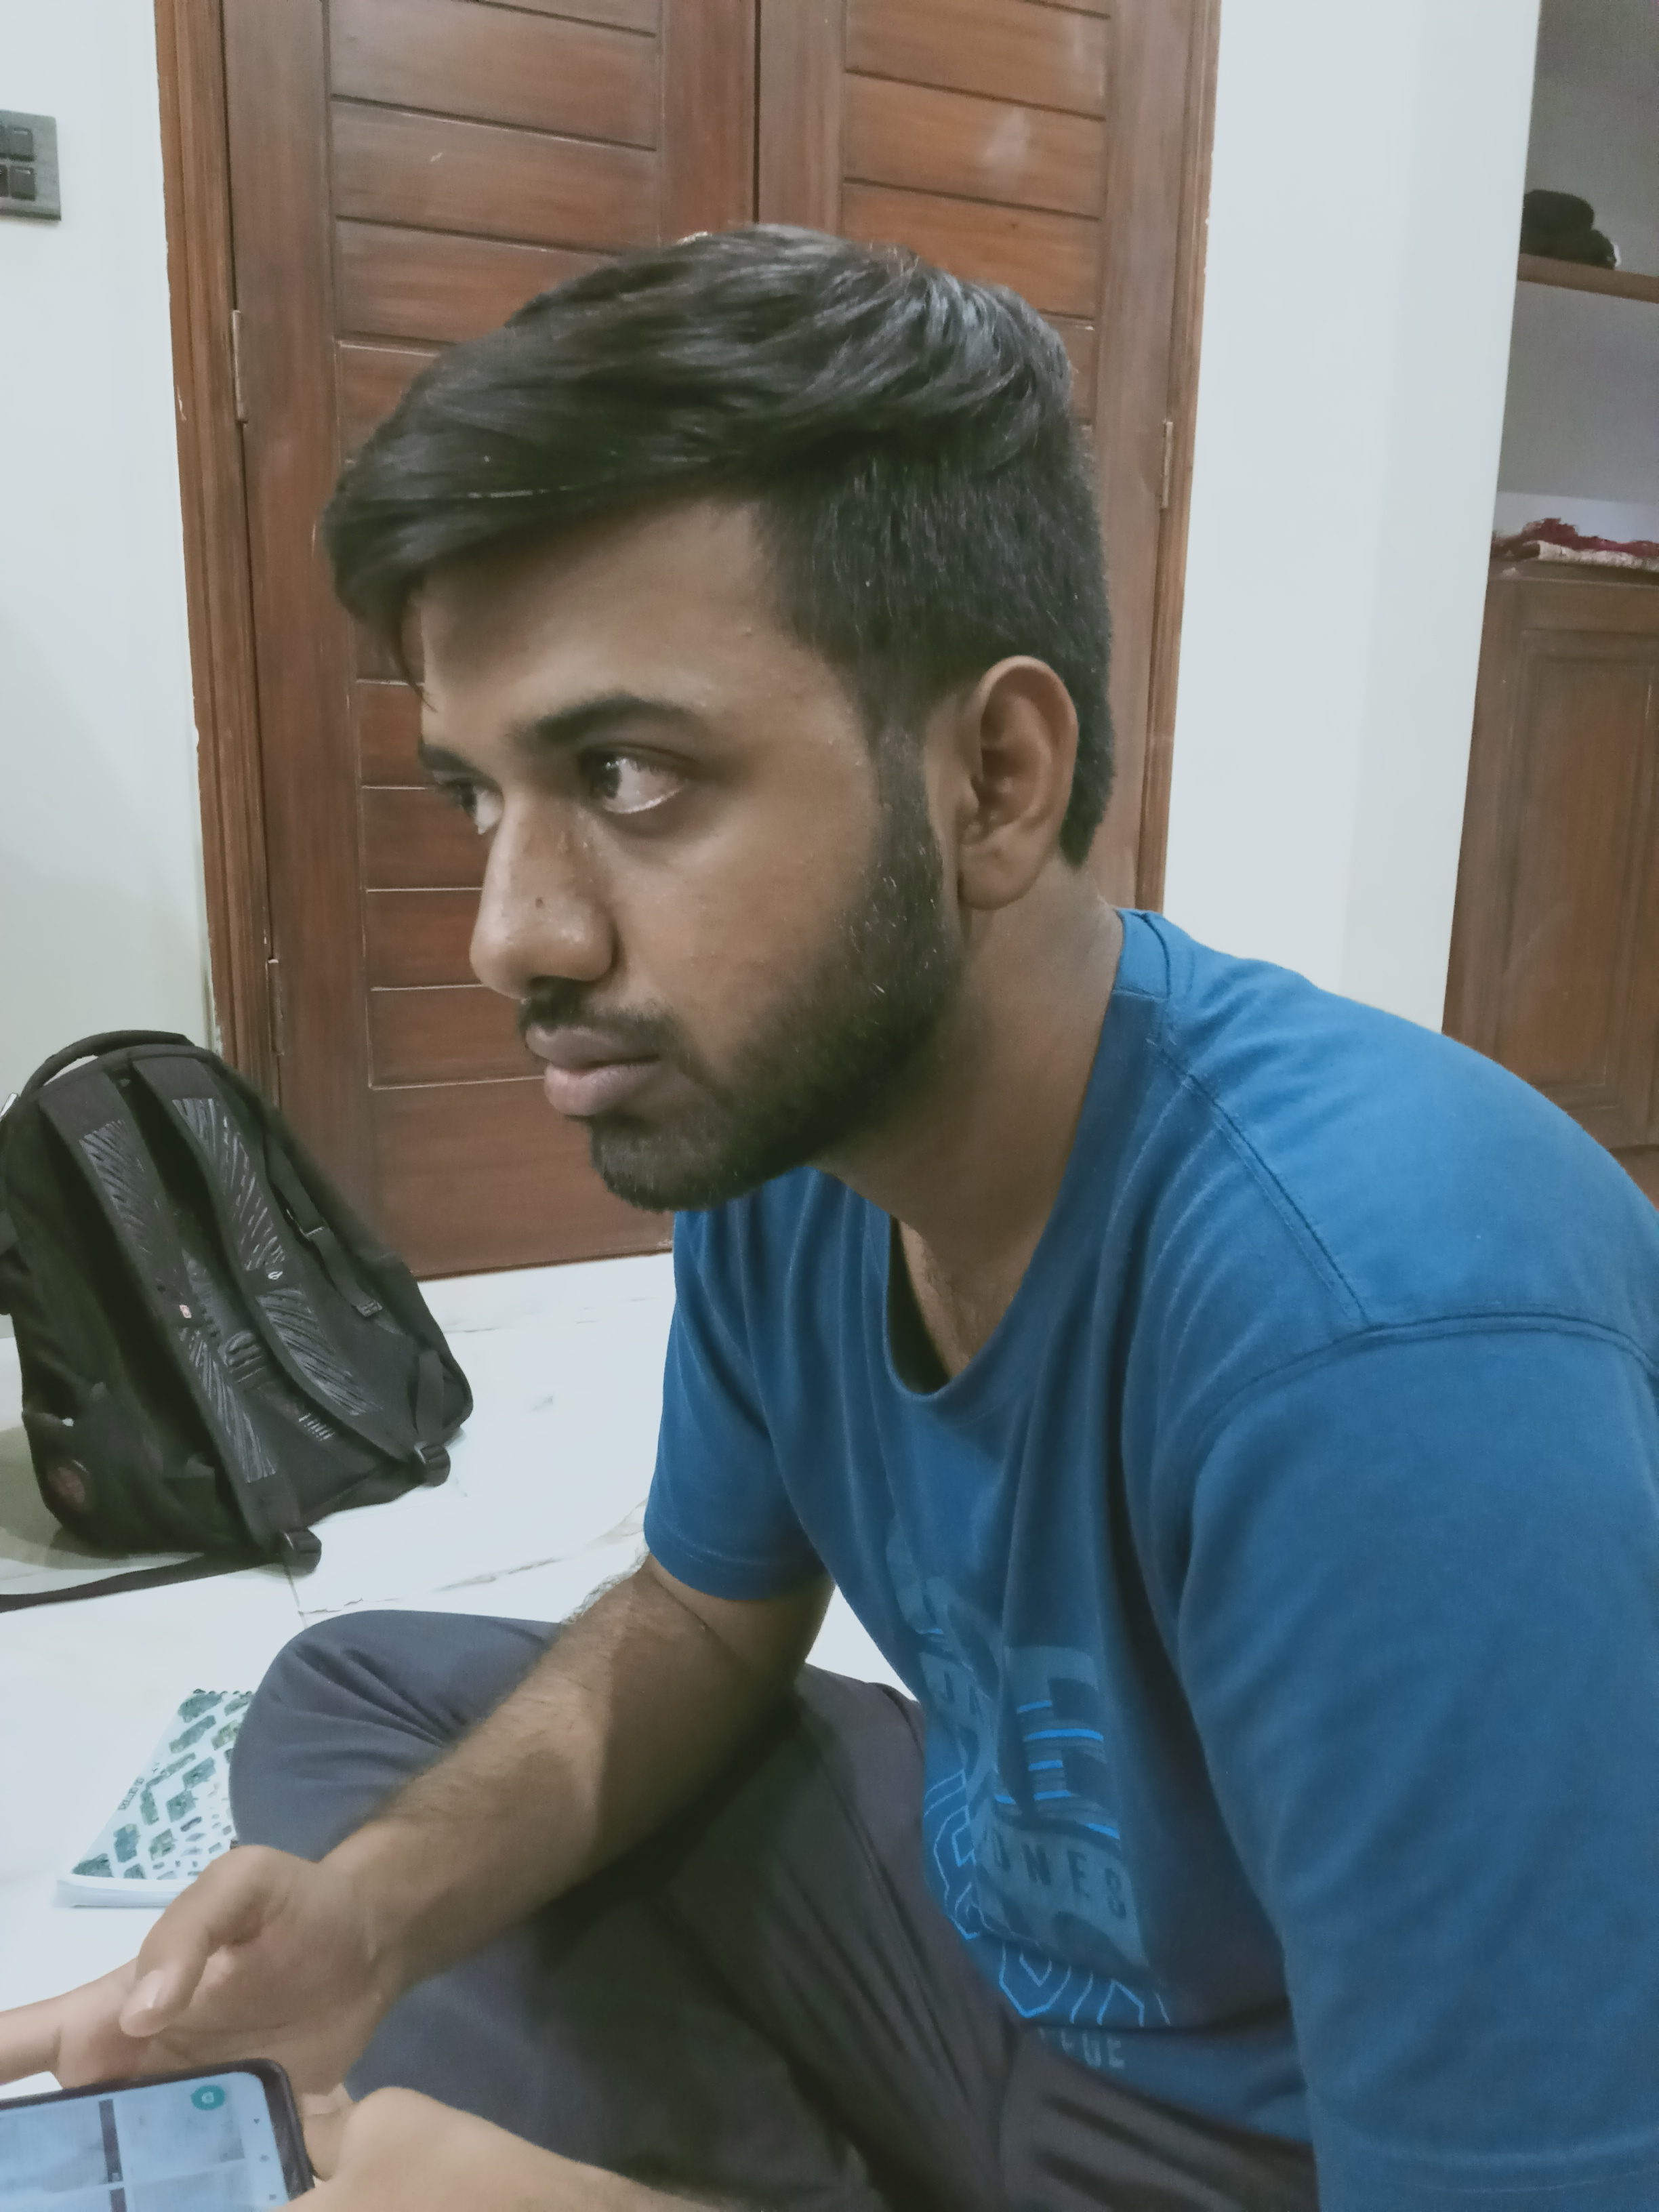NoMask: (419, 662, 901, 1187)
